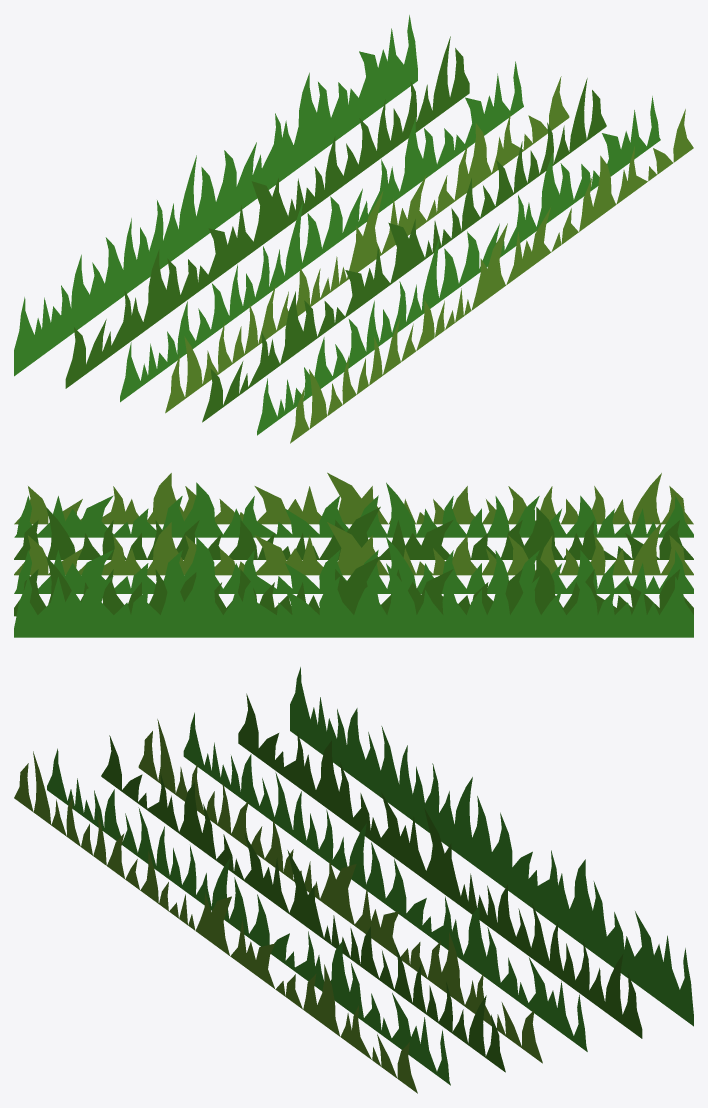
File: lane_end_02.fbx
The picture shows the model from 3 angles, top to bottom: view 1: azimuth 30°, elevation 25°; view 2: azimuth 150°, elevation 25°; view 3: azimuth 270°, elevation 25°; orthographic projection. The views are drawn at different scales.
Parts seen in each view (by area): view 1: lane_end_grass_02; view 2: lane_end_grass_02; view 3: lane_end_grass_02.
Part boxes in pixels (<box>): lane_end_grass_02: <box>14,15,693,443</box>; lane_end_grass_02: <box>14,472,693,637</box>; lane_end_grass_02: <box>14,667,693,1093</box>.
Size of what is drawn, in the model's own units: 633 by 71.93 by 501.
